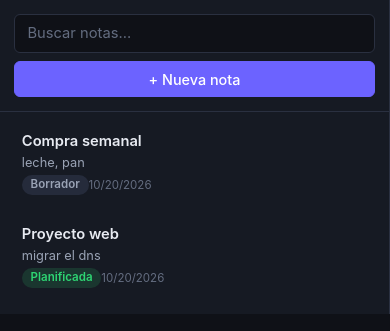
Test: filters by title and content
Type "dns" into the search field with placeholder "Buscar notas..." at (194, 33), box [14,14,375,53]
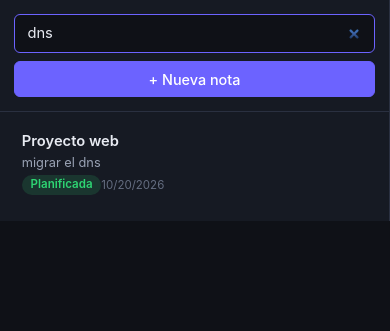
Expected: the text "Proyecto web" is shown, [22,132,119,150]
Now the button "Compra semanal" is gone
